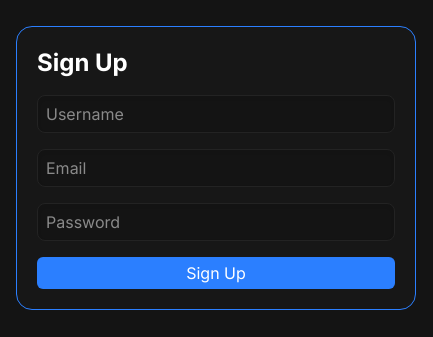
SignUp › should return validation error on submitting form with invalid username
In the field with placeholder "Username": (216, 114) [46,104,386,124], type "us"
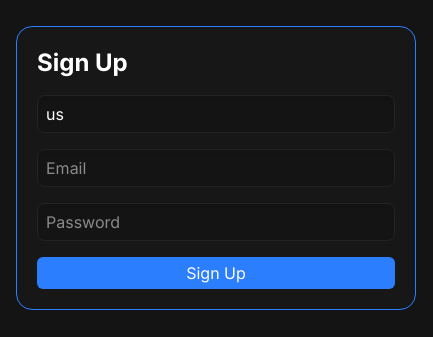
In the field with placeholder "Email": (216, 168) [46,158,386,178], type "testEmail@gmail.com"
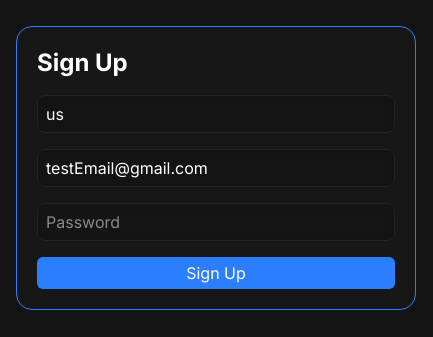
In the password field with placeholder "Password": (216, 222) [46,212,386,232], type "testPassword1"
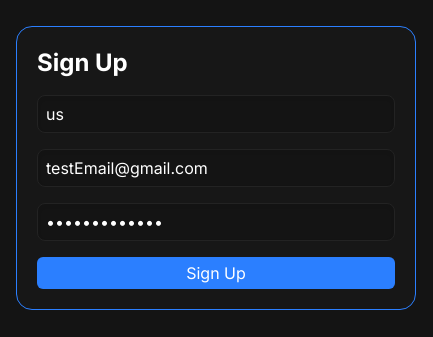
Click the button: (216, 273) [37,257,395,289]
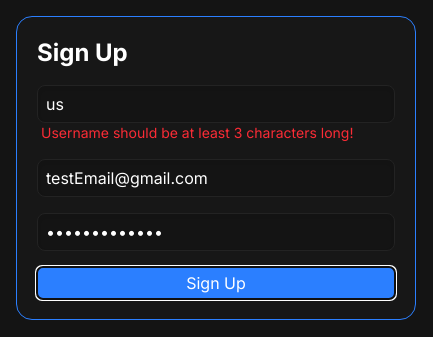
Now the text "Username should be at least 3 characters long!" is shown, box [37,123,395,143]
